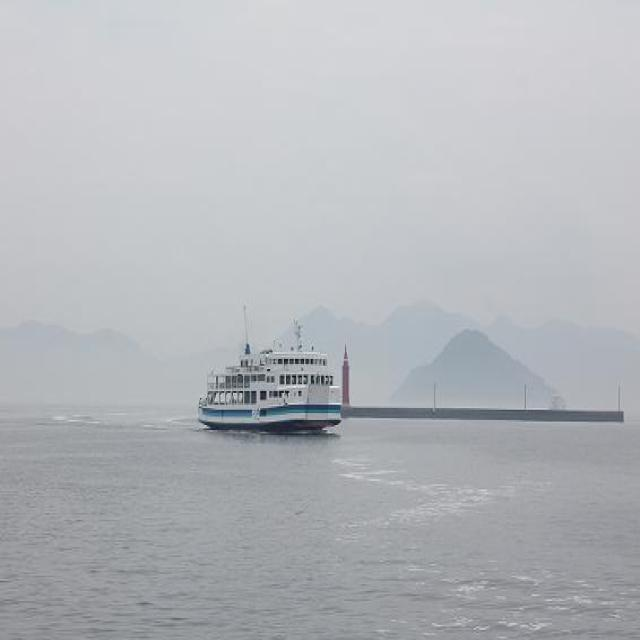passenger ship: (206, 302, 354, 437)
